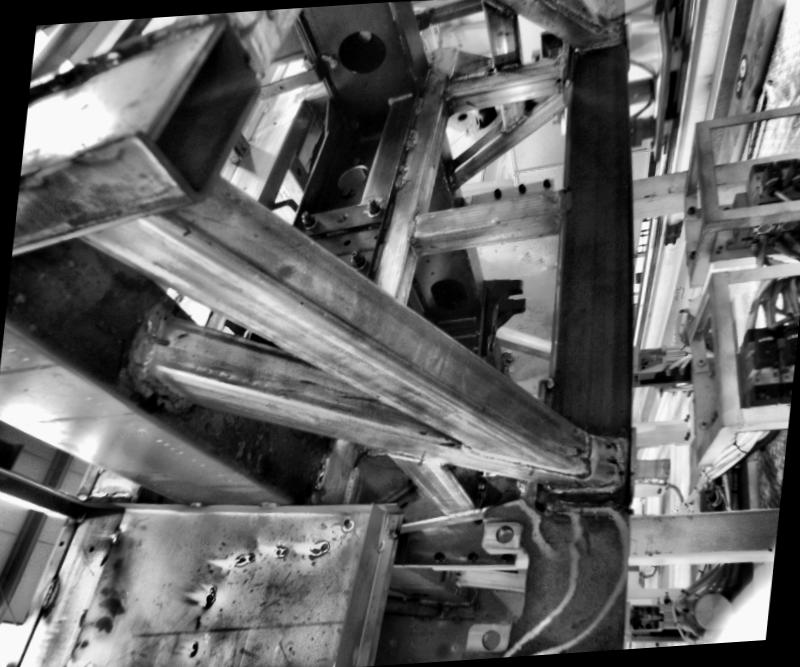bolt: (364, 195, 383, 218), (299, 206, 318, 228), (348, 248, 367, 268)
bracket: (473, 268, 528, 362)
hole: (333, 26, 383, 76), (426, 274, 473, 314), (334, 162, 368, 190), (150, 332, 174, 350), (479, 628, 500, 648), (491, 523, 514, 541), (332, 209, 348, 222), (87, 544, 96, 554), (340, 238, 349, 246), (57, 538, 64, 548), (412, 242, 422, 248), (428, 164, 436, 170)
welding: (142, 309, 172, 378), (544, 482, 634, 498), (619, 438, 634, 493), (40, 575, 60, 612), (586, 428, 598, 481), (558, 189, 574, 216), (184, 499, 206, 514), (395, 162, 409, 185), (406, 127, 418, 148), (408, 212, 416, 242), (256, 501, 282, 510), (112, 530, 122, 542)
